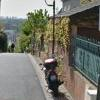Motorcycle: (33, 53, 67, 94)
